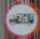Heavy Vehicles: (5, 1, 39, 35)
